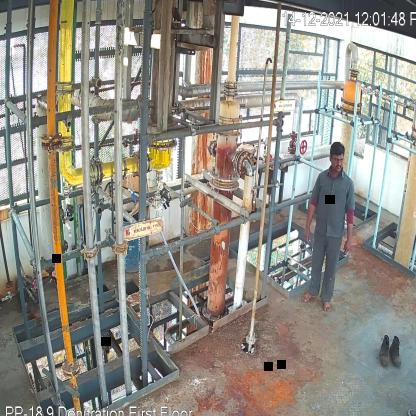no_shoes: (300, 292, 317, 302), (320, 300, 332, 314)
shoes: (378, 334, 393, 368), (390, 336, 403, 366)
